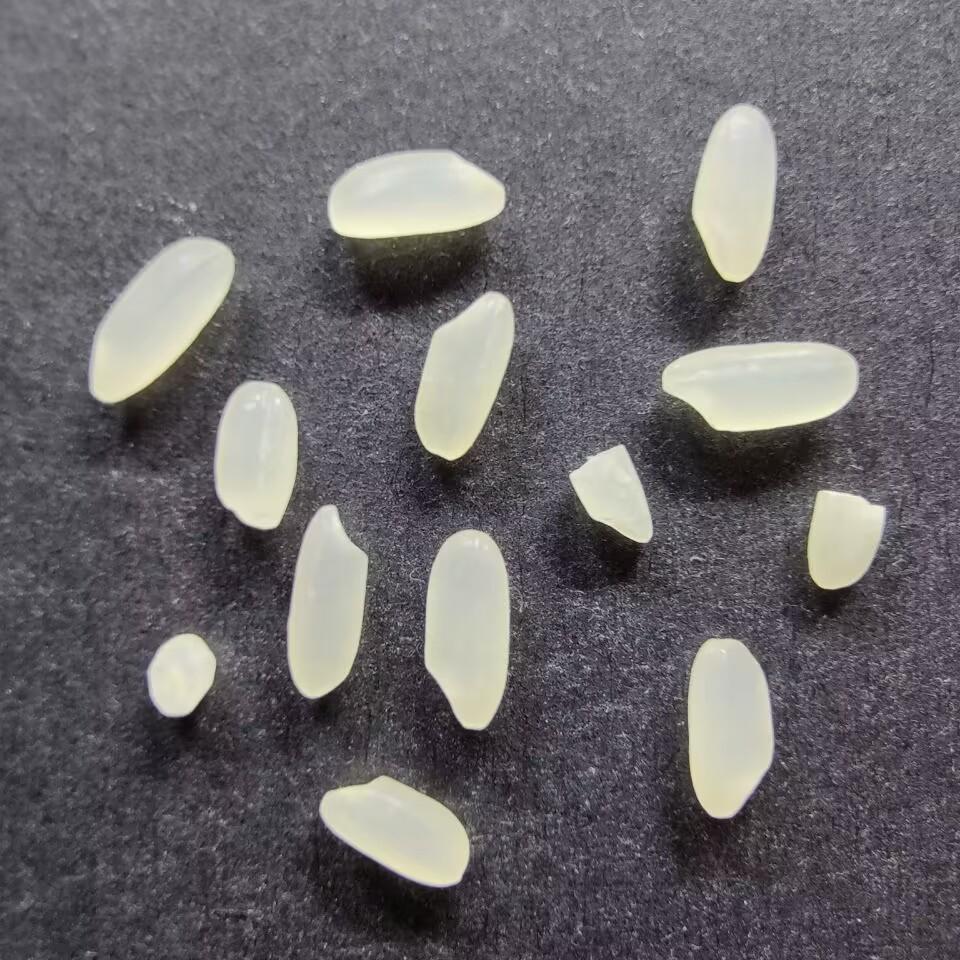broken: (566, 439, 654, 546), (804, 485, 888, 593), (145, 630, 217, 718)
rice: (84, 235, 237, 405), (657, 339, 860, 433), (421, 528, 512, 731), (317, 773, 471, 890), (325, 147, 508, 240), (284, 502, 370, 699), (684, 637, 775, 820), (688, 103, 777, 285), (210, 379, 299, 531), (409, 363, 486, 467)
